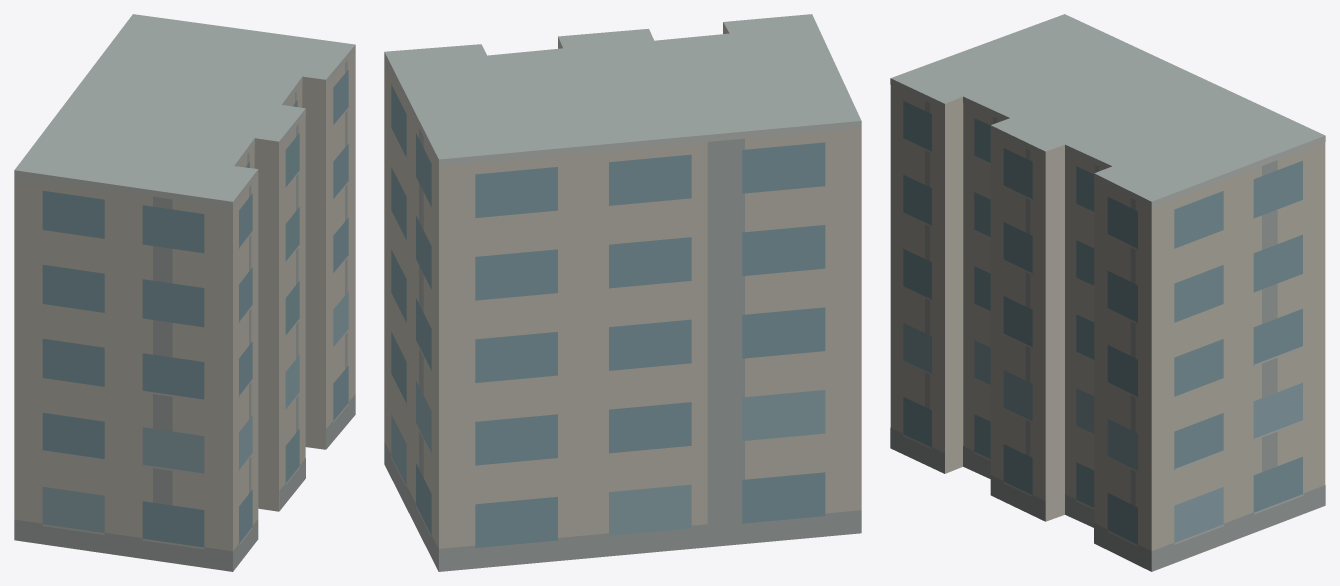
File: survey-upis-32998702.glb
The picture shows the model from 3 angles, left to right: view 1: azimuth 30°, elevation 25°; view 2: azimuth 150°, elevation 25°; view 3: azimuth 270°, elevation 25°; orthographic projection. The views are drawn at different scales.
Visible parts, largest first — view 1: survey-upis-32998702.tmp; view 2: survey-upis-32998702.tmp; view 3: survey-upis-32998702.tmp.
Part boxes in pixels (left/top/right/bottom): survey-upis-32998702.tmp: left=14, top=14, right=355, bottom=571; survey-upis-32998702.tmp: left=384, top=14, right=861, bottom=571; survey-upis-32998702.tmp: left=890, top=14, right=1325, bottom=571.
Bounding box in the file's own units: 15.46 × 14.2 × 15.13.
